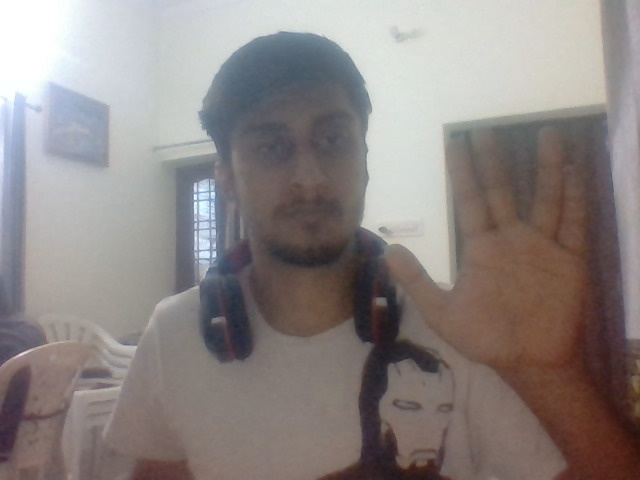LiveLong: (385, 127, 588, 363)
